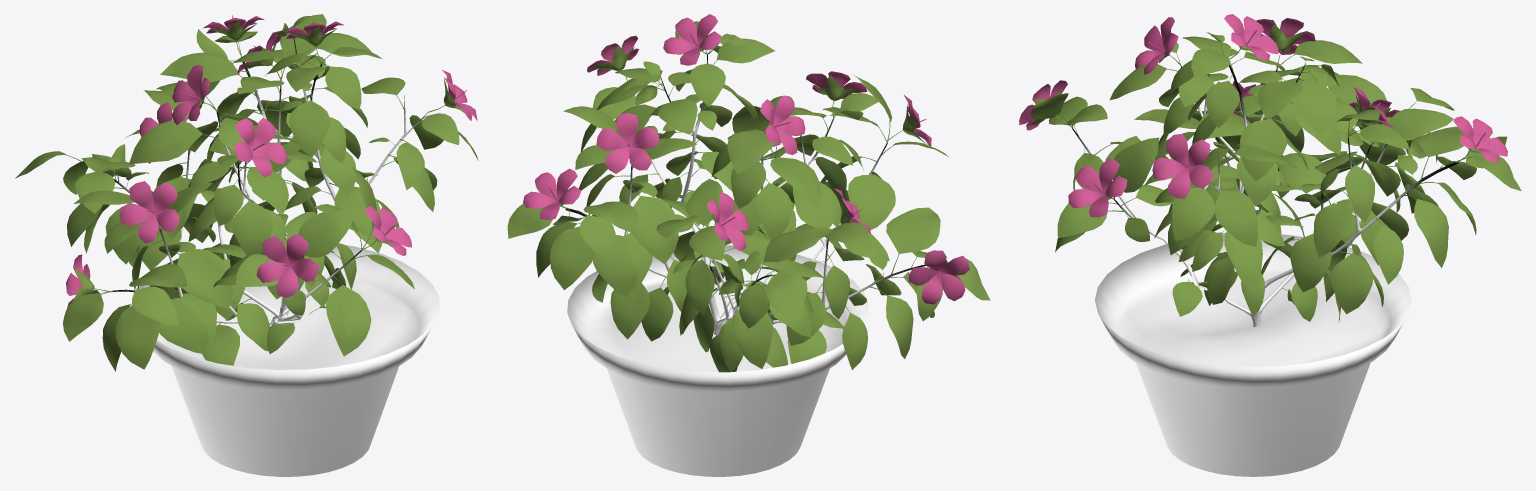
Rendered from Plant.fbx.
3 views of the same model, side by side, from view 1: azimuth 30°, elevation 25°; view 2: azimuth 150°, elevation 25°; view 3: azimuth 270°, elevation 25° (orthographic). The views are drawn at different scales.
Parts seen in each view (by area): view 1: Plant_Hibiscus_D_spring-summer-autumn; view 2: Plant_Hibiscus_D_spring-summer-autumn; view 3: Plant_Hibiscus_D_spring-summer-autumn.
Part boxes in pixels (x1,y1,x2,y2): Plant_Hibiscus_D_spring-summer-autumn: (15, 14, 478, 476); Plant_Hibiscus_D_spring-summer-autumn: (507, 14, 990, 476); Plant_Hibiscus_D_spring-summer-autumn: (1019, 14, 1521, 476).
Size of the model in its own units: 48.38 by 48.16 by 50.74.
